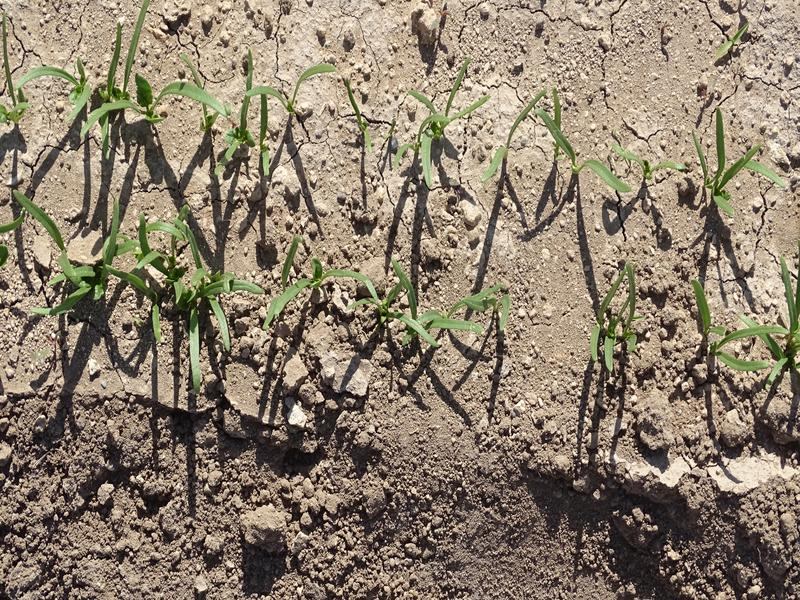Espinaca: (39, 13, 327, 168), (14, 201, 244, 377), (276, 240, 514, 353), (491, 101, 636, 199), (685, 280, 800, 378), (694, 115, 777, 218), (393, 73, 471, 175), (582, 261, 644, 367)
